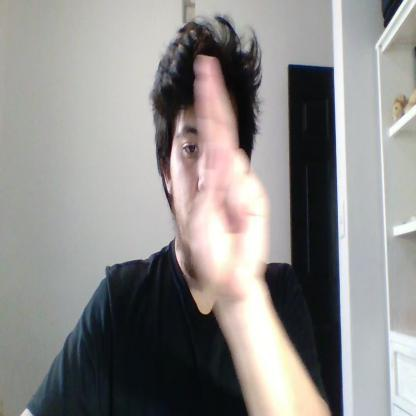R: (189, 54, 270, 298)
